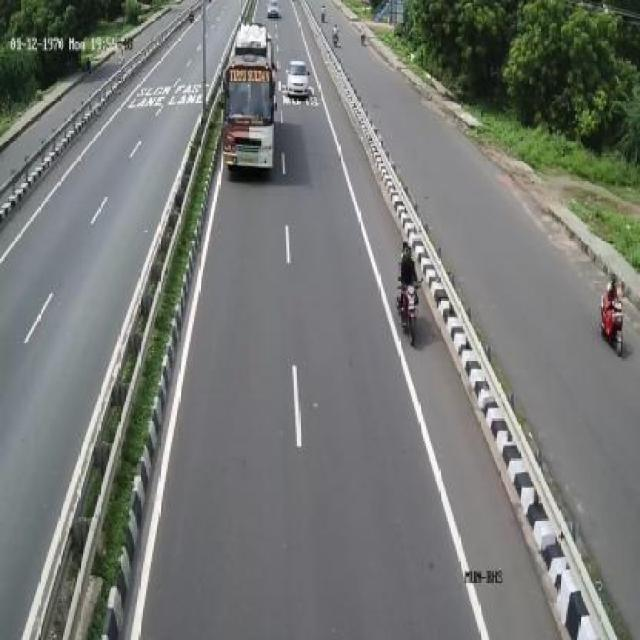car: (288, 57, 312, 106)
